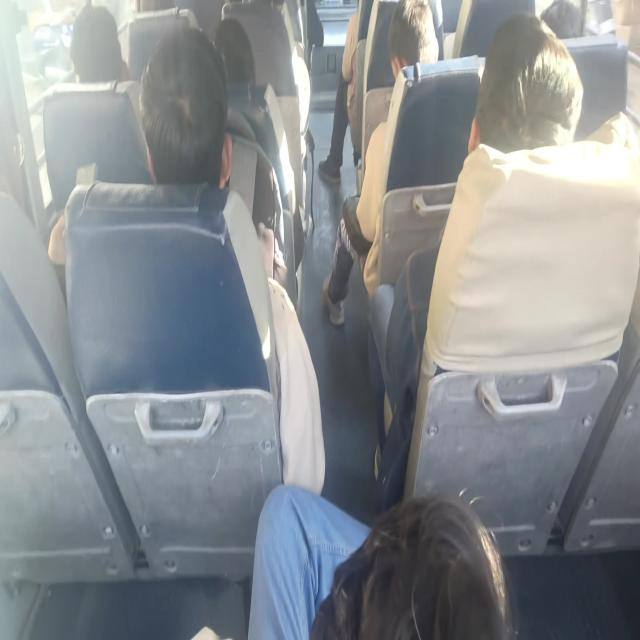person: (367, 12, 638, 509), (48, 23, 325, 496), (48, 25, 234, 266), (247, 482, 515, 638), (321, 0, 439, 326), (138, 25, 233, 189), (318, 1, 397, 185), (318, 11, 360, 184), (69, 4, 129, 83)
